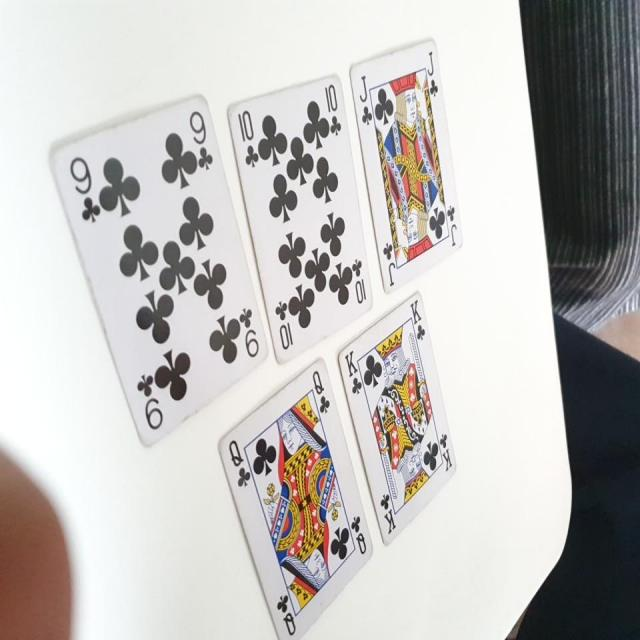10 Trefoils: (226, 71, 375, 365)
9 Trefoils: (48, 93, 268, 450)
J Trefoils: (346, 38, 464, 294)
K Trefoils: (336, 292, 459, 545)
Q Trefoils: (215, 352, 375, 639)
